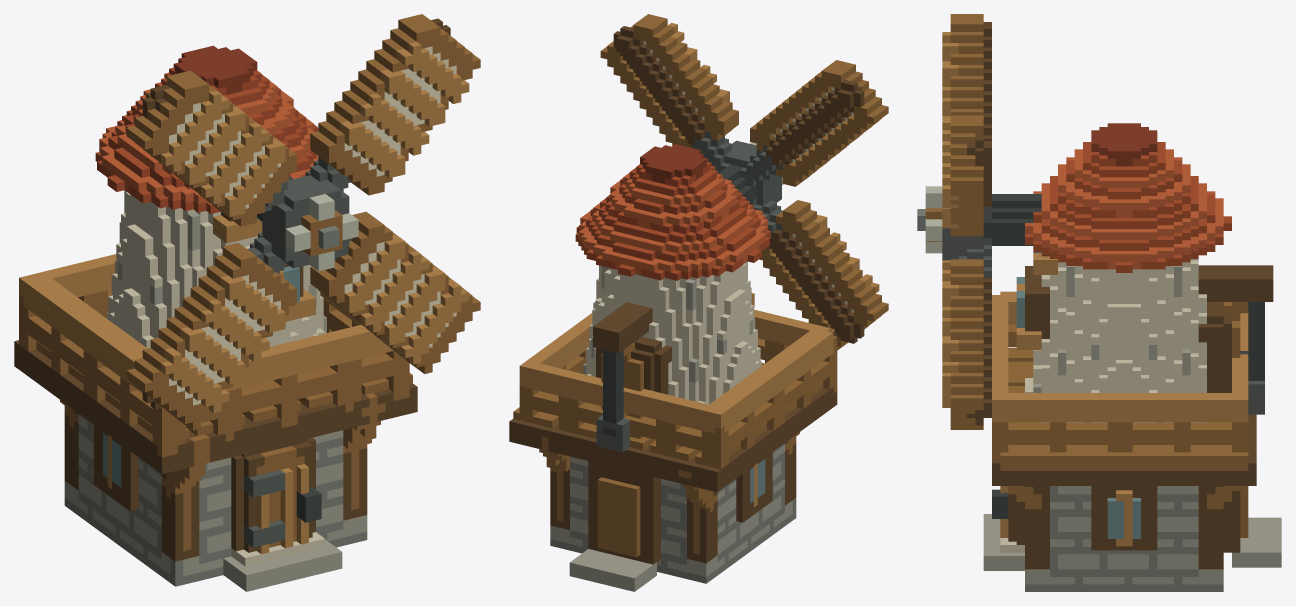
The model's file is windmill.glb.
3 renders of one model, left to right at view 1: azimuth 30°, elevation 25°; view 2: azimuth 150°, elevation 25°; view 3: azimuth 270°, elevation 25°, orthographic. The views are drawn at different scales.
Parts seen in each view (by area): view 1: windmill; view 2: windmill; view 3: windmill.
Part boxes in pixels (x1,y1,x2,y2): windmill: (14, 14, 480, 591); windmill: (509, 14, 888, 591); windmill: (917, 14, 1281, 591).
Bounding box in the file's own units: 4.62 × 7.04 × 4.84.
